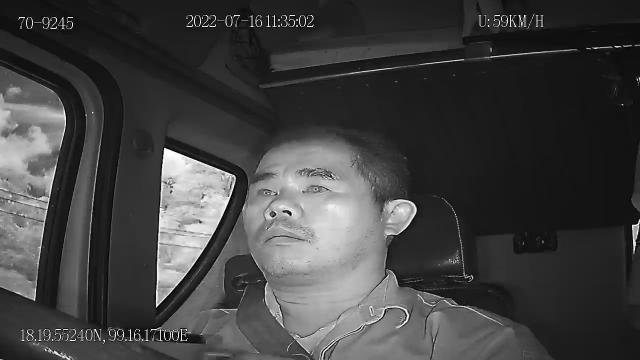SafeDriving: (294, 172, 340, 198), (249, 178, 282, 202)
Seatbelt: (234, 280, 312, 360)
